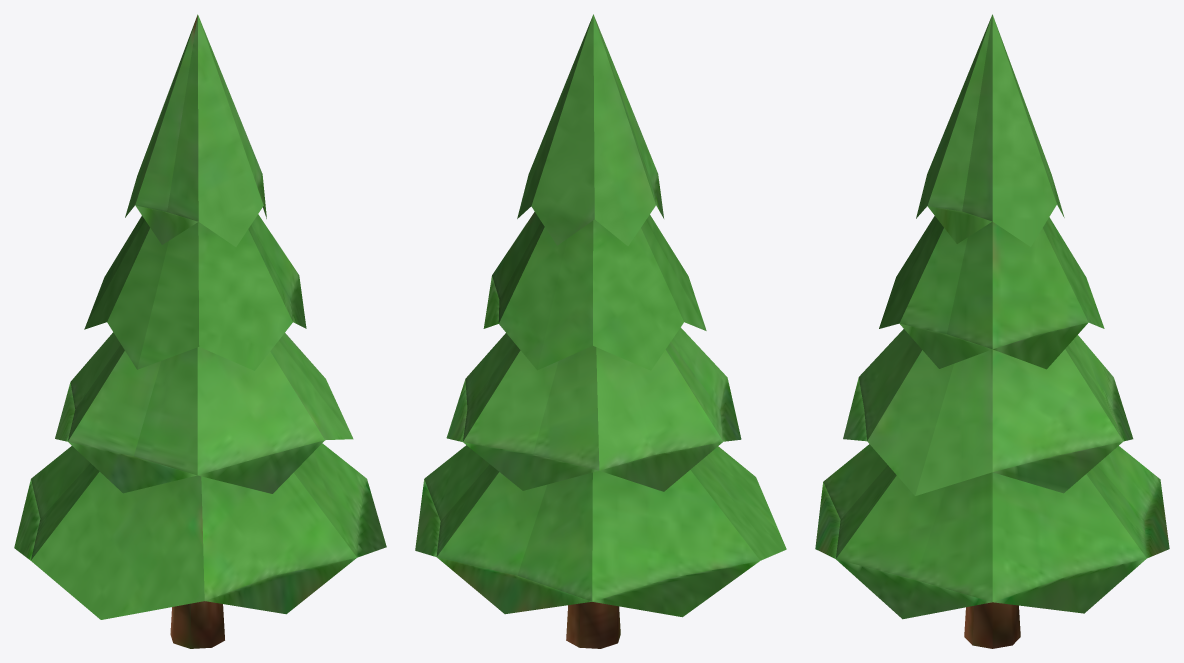
The model's file is forest_pine.glb.
The picture shows the model from 3 angles, left to right: view 1: azimuth 30°, elevation 25°; view 2: azimuth 150°, elevation 25°; view 3: azimuth 270°, elevation 25°; orthographic projection.
Visible parts, largest first — view 1: forest_pine; view 2: forest_pine; view 3: forest_pine.
Part boxes in pixels (x1,y1,x2,y2): forest_pine: [14, 14, 386, 648]; forest_pine: [415, 14, 786, 648]; forest_pine: [815, 14, 1169, 648].
Size of the model in its own units: 0.9596 by 1.7 by 0.8763.
Materials: 1 (1 with a texture image).
